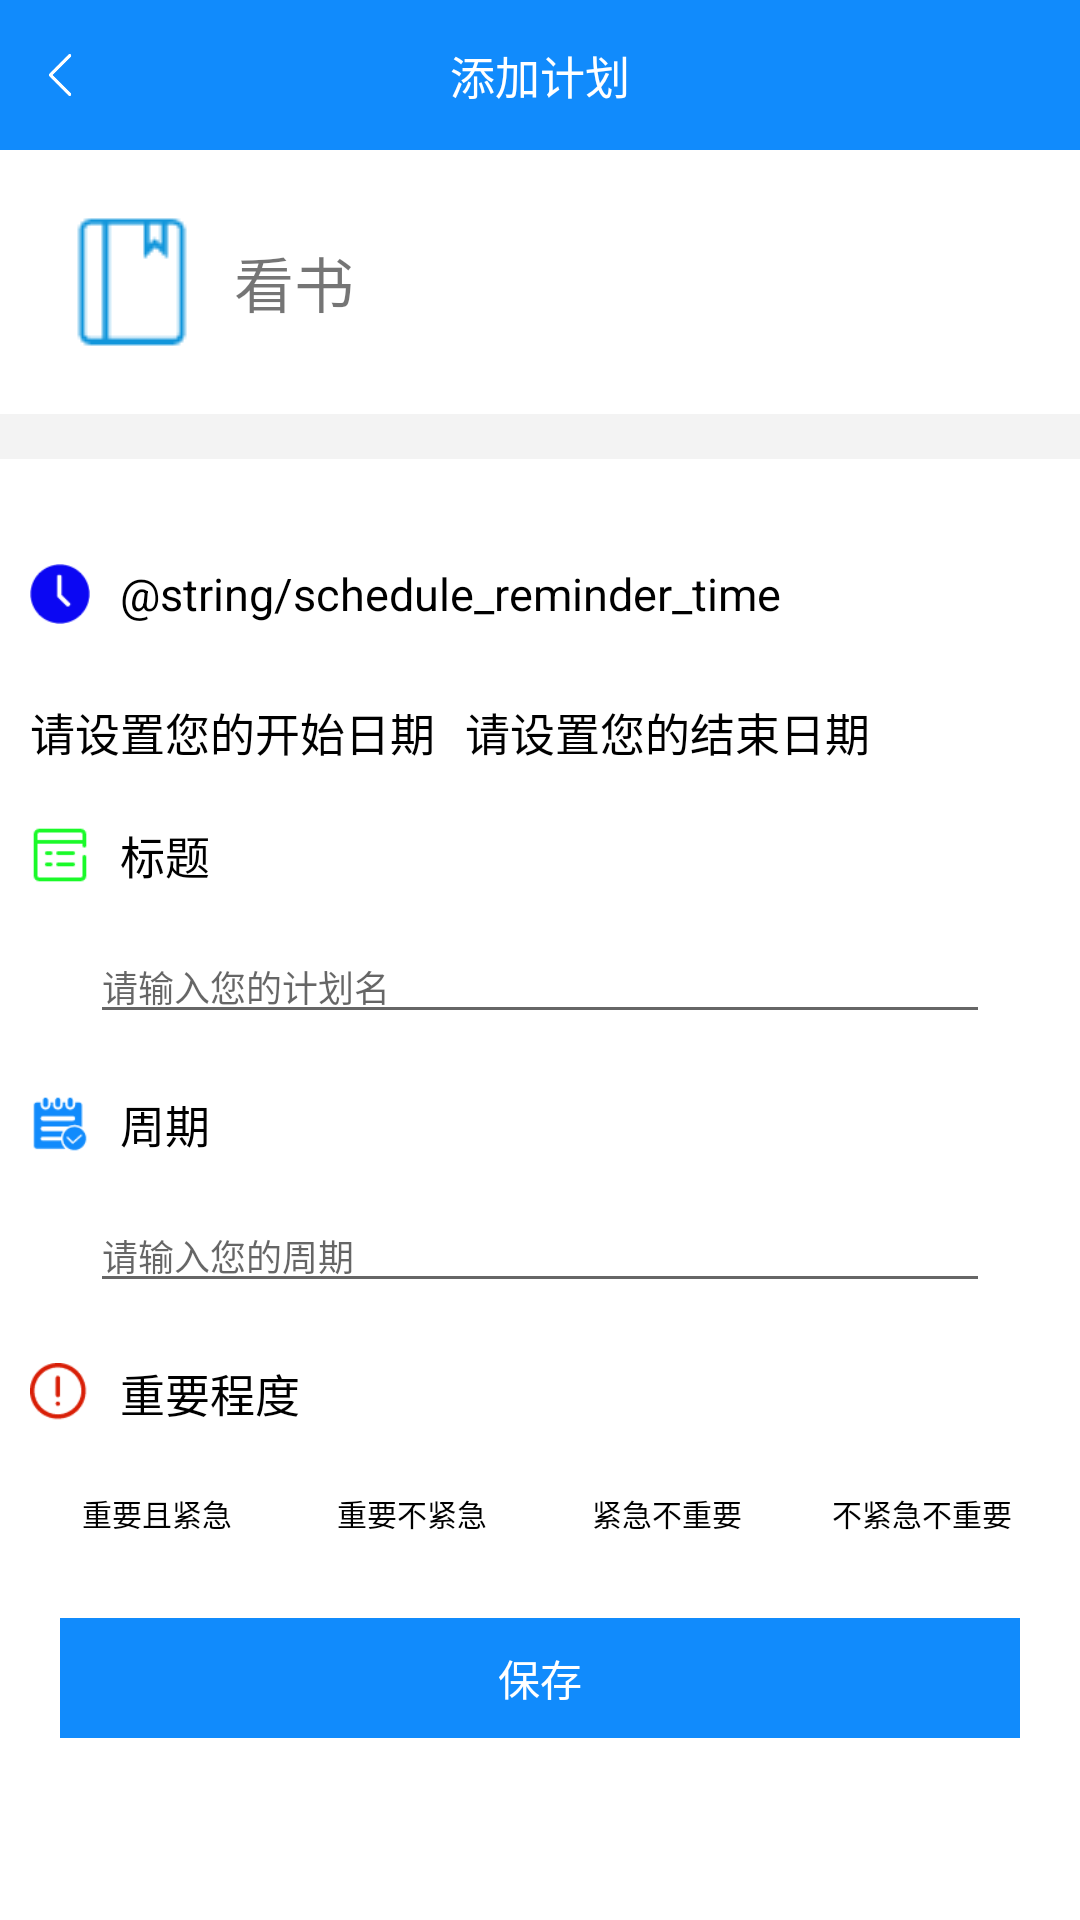

Screen size 1080×1920. Icon name, then its box in pixels as (x1, y1, x2, y2):
alert: (30, 1363, 87, 1420)
book: (77, 218, 187, 346)
left: (49, 54, 71, 96)
plan: (33, 1097, 87, 1151)
